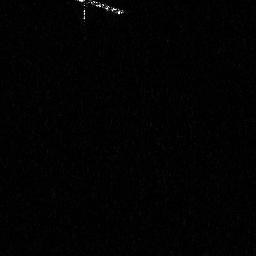ship: (71, 1, 124, 22)
